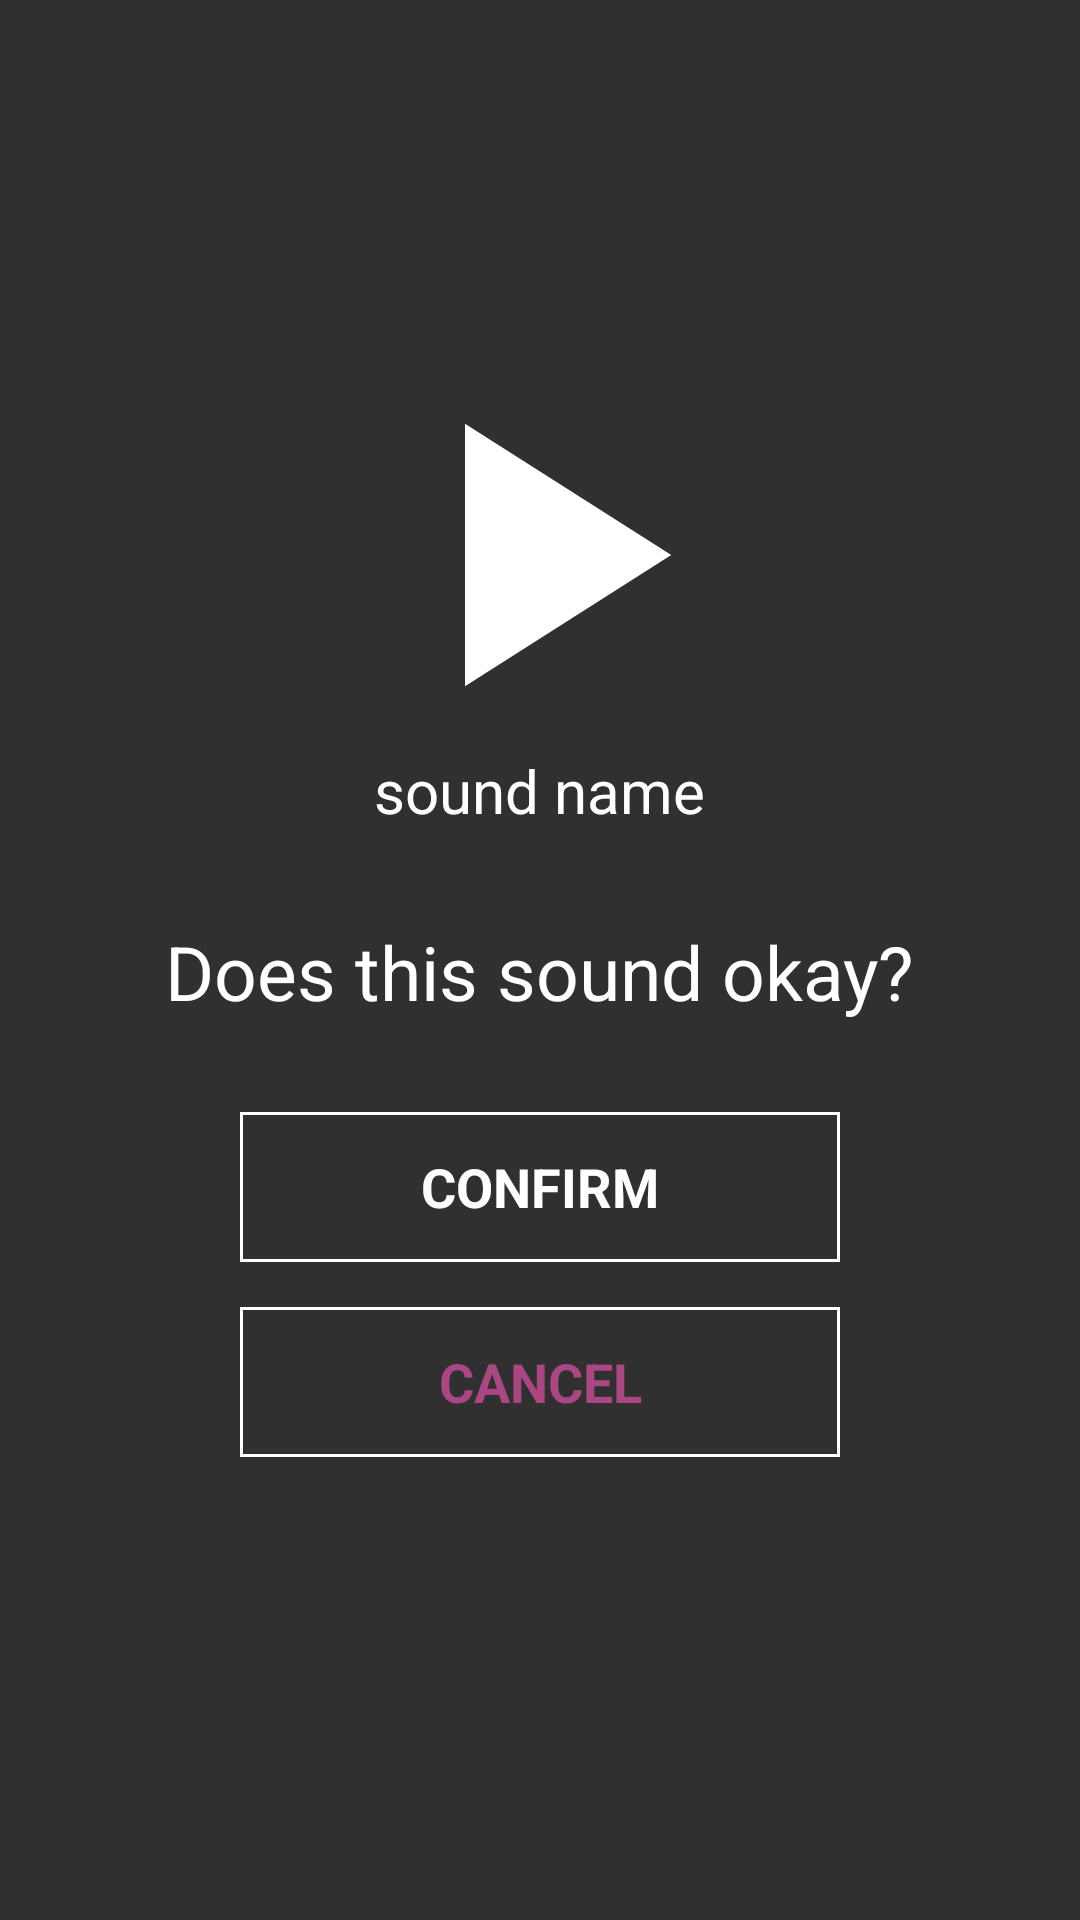

Named icons in this screenshot (1080*1920) and their bounding boxes, (x1, y1, x2, y2):
play arrow: (465, 424, 671, 686)
